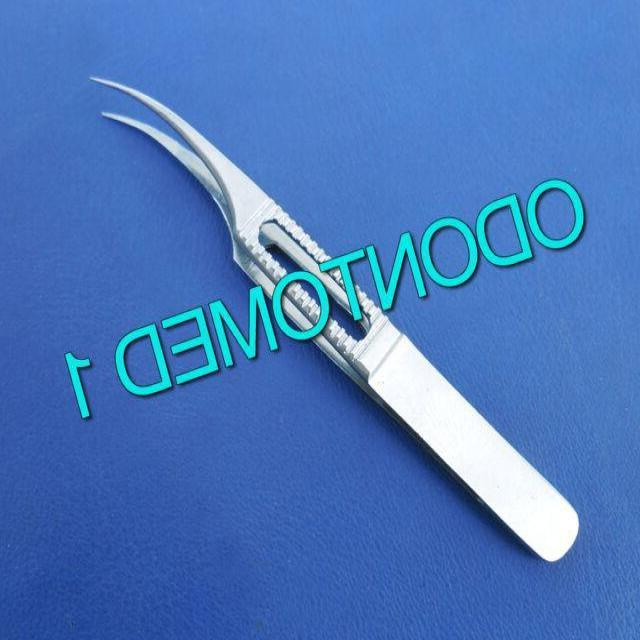Forceps: (84, 64, 585, 576)
